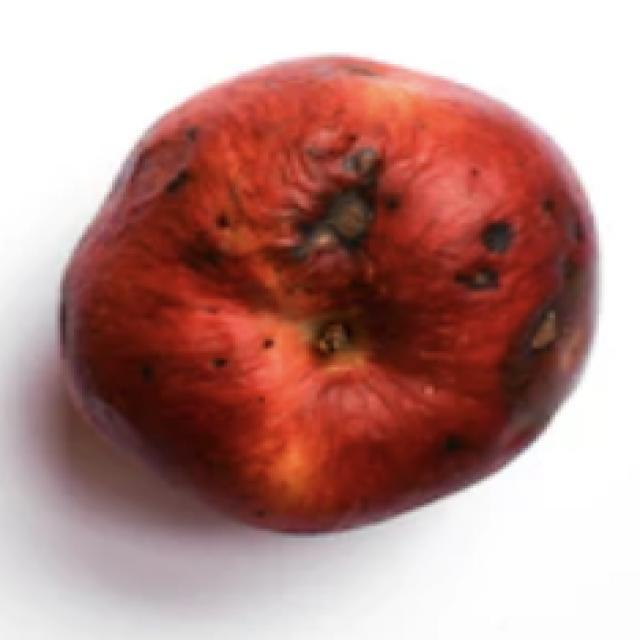Rotten: (100, 65, 622, 543)
